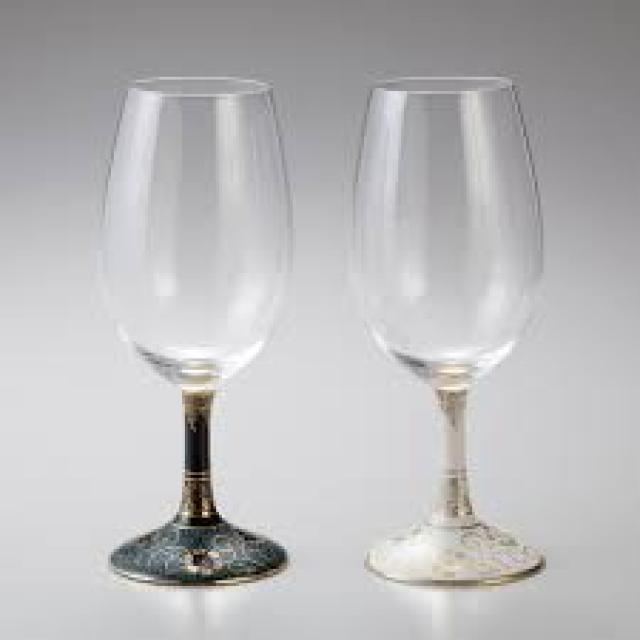metal: (111, 393, 287, 585)
